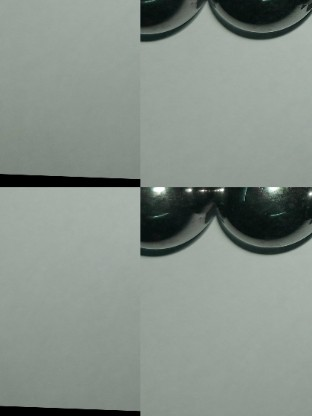ironball: (215, 173, 310, 260), (130, 179, 215, 254), (213, 0, 310, 48), (132, 0, 200, 46)
